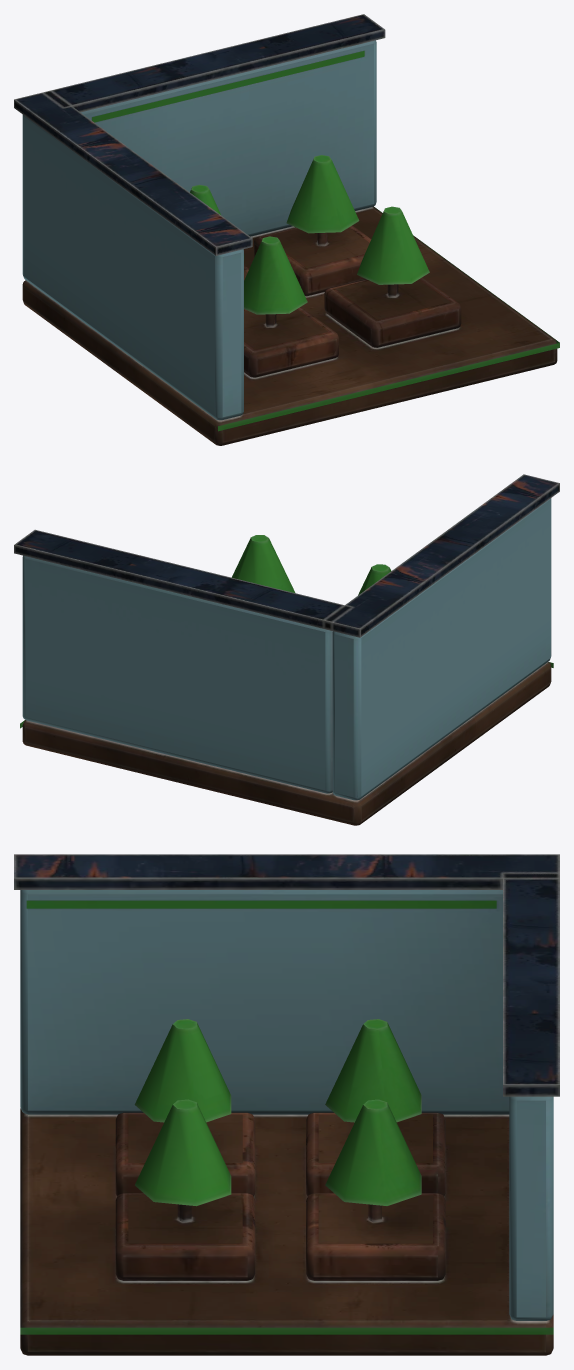
File: biosphere.glb
3 renders of one model, top to bottom at view 1: azimuth 30°, elevation 25°; view 2: azimuth 150°, elevation 25°; view 3: azimuth 270°, elevation 25°, orthographic. The views are drawn at different scales.
Visible parts, largest first — view 1: te_biosphere; view 2: te_biosphere; view 3: te_biosphere.
Part boxes in pixels (x1,y1,x2,y2): te_biosphere: [14, 14, 559, 445]; te_biosphere: [14, 474, 559, 825]; te_biosphere: [14, 854, 559, 1355].
Bounding box in the file's own units: 0.86 × 0.48 × 0.86.
1 material, 1 textured.
